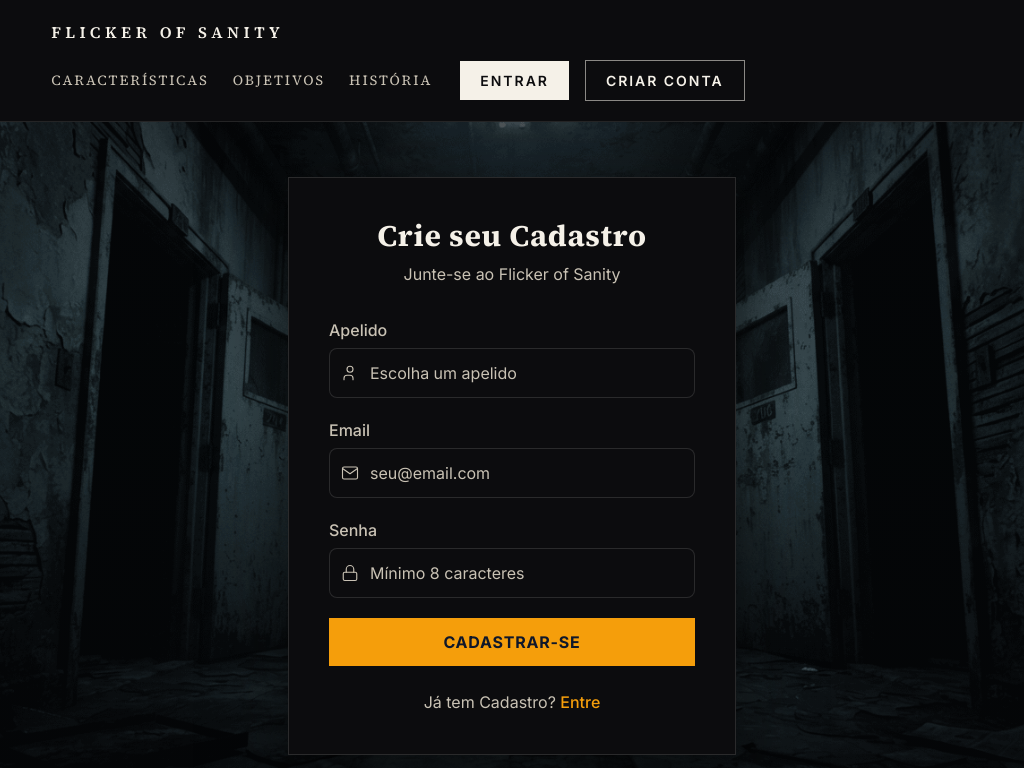
Test case: CadastroPage › validação client-side: O apelido deve ter entre 3 e 20 caracteres.
Type "ab" into the field labelled "Apelido" at (512, 373), box [329,348,695,398]
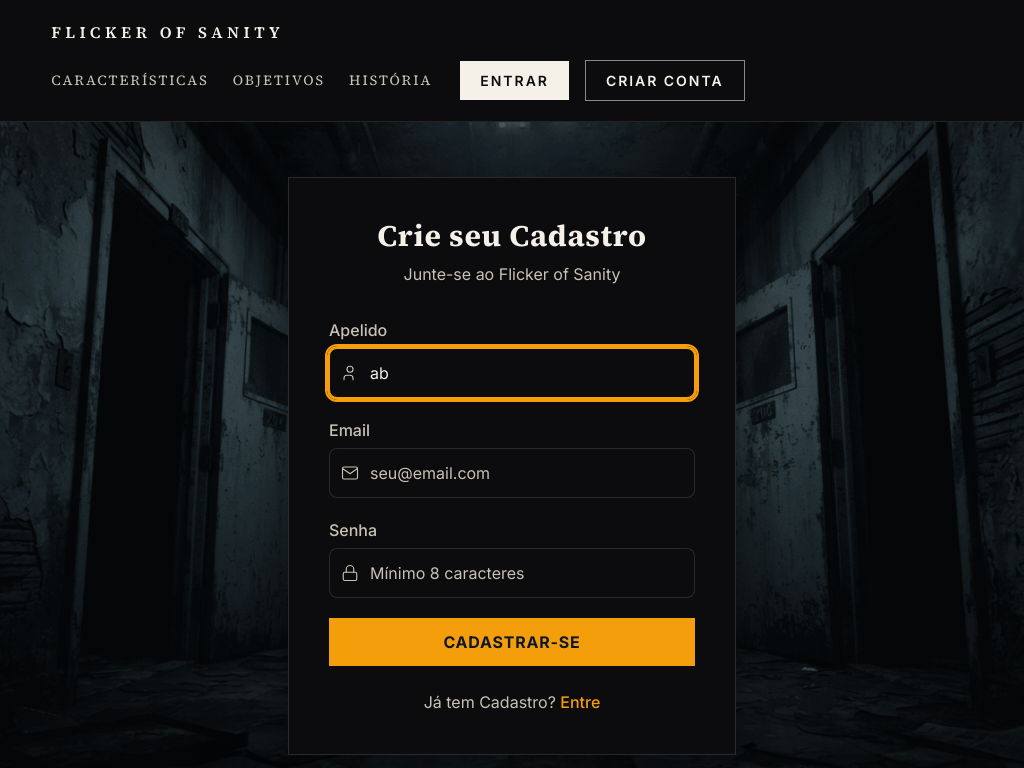
Type "a@exemplo.com" into the field labelled "Email" at (512, 473), box [329,448,695,498]
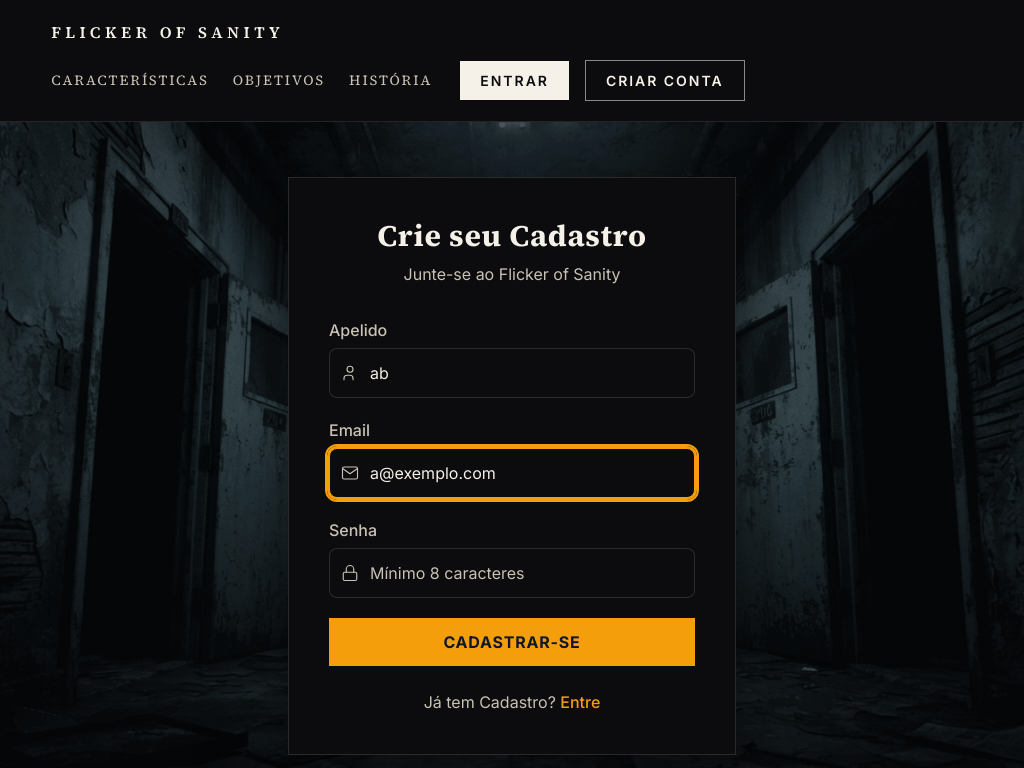
Type "senha-segura-1" into the password field labelled "Senha" at (512, 573), box [329,548,695,598]
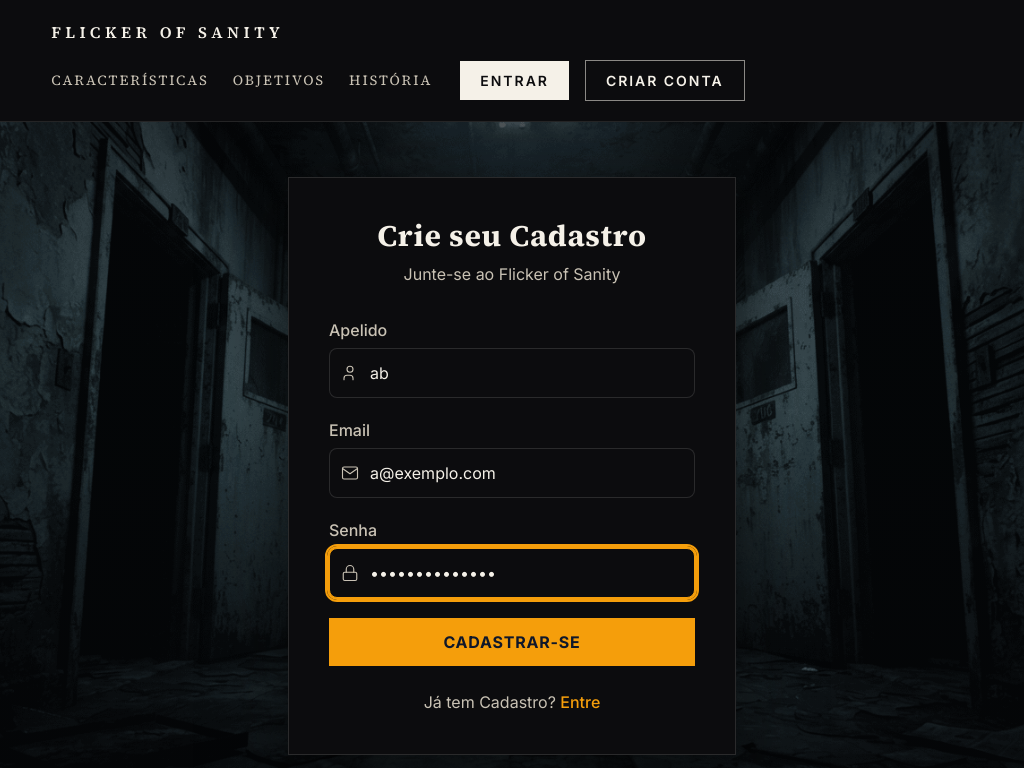
Click the button "CADASTRAR-SE" at (512, 642), box [329,618,695,666]
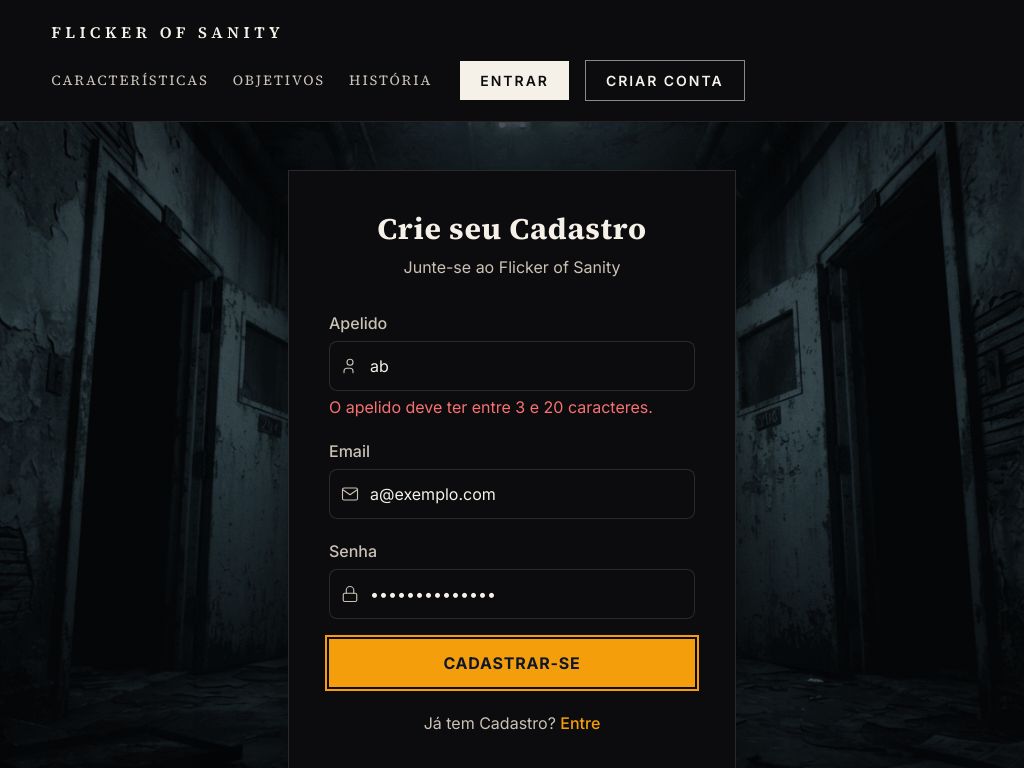
Expected: the text "O apelido deve ter entre 3 e 20 caracteres." is shown, [329,395,695,419]
